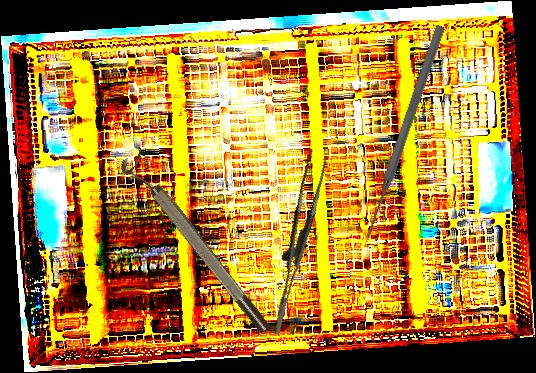Fixation Ring: (117, 147, 274, 342)
Pusher: (360, 23, 448, 241)
Tissue Forceps: (244, 148, 346, 336)
